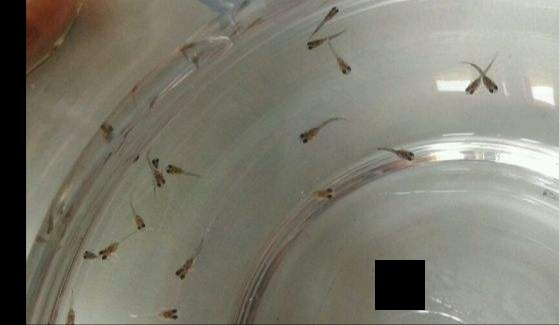fry: (160, 238, 205, 281), (292, 116, 341, 147), (324, 43, 357, 80), (133, 301, 191, 321), (380, 138, 423, 164), (95, 235, 133, 264), (163, 158, 197, 187), (125, 202, 149, 240), (302, 30, 336, 55), (148, 158, 168, 200), (315, 1, 343, 30), (60, 295, 83, 324), (462, 69, 483, 99), (484, 64, 503, 96), (78, 244, 101, 268), (311, 185, 339, 204)
